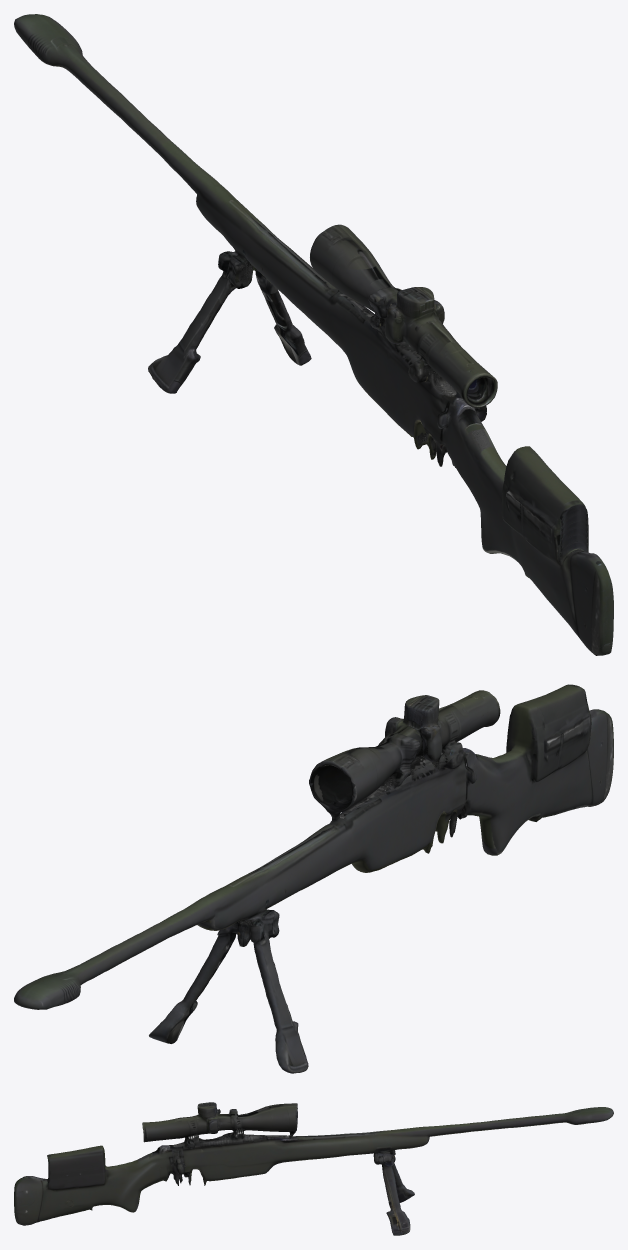
The model's file is Sniper_rifle__0717225404_texture.fbx.
3 views of the same model, one above another, from view 1: azimuth 30°, elevation 25°; view 2: azimuth 150°, elevation 25°; view 3: azimuth 270°, elevation 25° (orthographic). The views are drawn at different scales.
Visible parts, largest first — view 1: Mesh_0; view 2: Mesh_0; view 3: Mesh_0.
Boxes of the visible parts, left/top/right/bottom form: Mesh_0: left=14, top=14, right=613, bottom=655; Mesh_0: left=14, top=684, right=613, bottom=1073; Mesh_0: left=14, top=1102, right=613, bottom=1235.
Bounding box in the file's own units: 29.32 × 44.38 × 200.
1 material, 1 textured.
